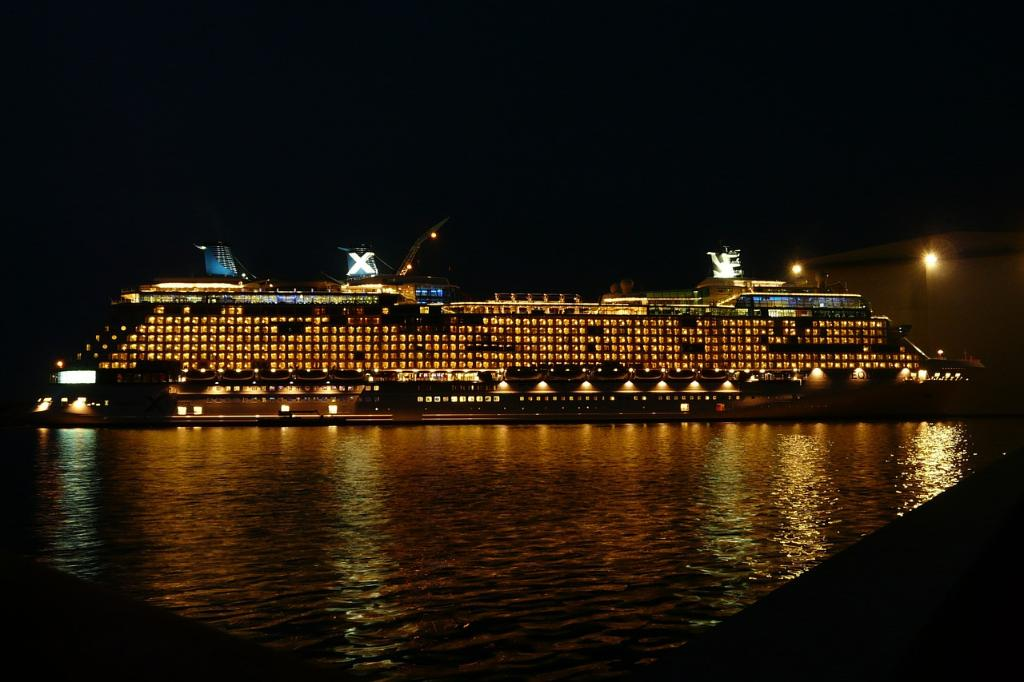PassengerShip: (35, 202, 997, 432)
